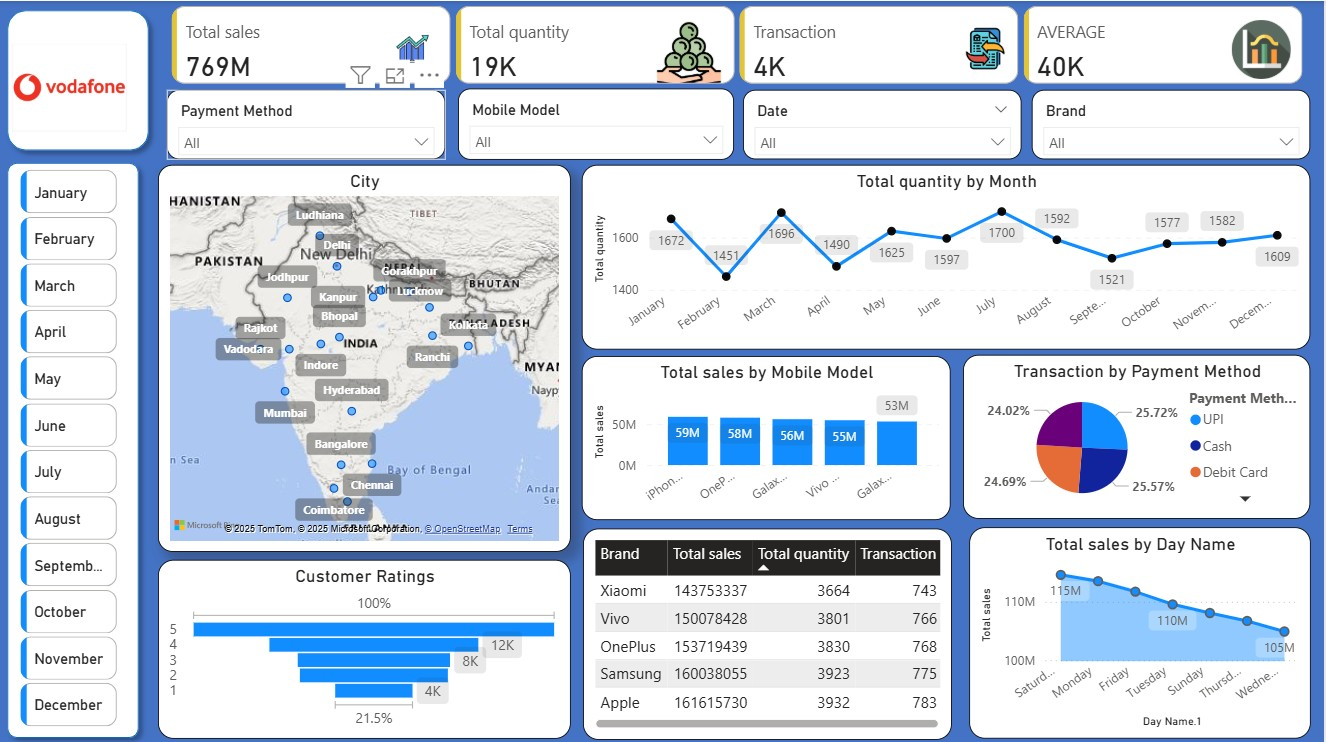

The page's visual inventory and layout, read from the dashboard file:
{"tool":"powerbi","page":{"name":"Page 1","canvas":[1280,720],"ordinal":0},"visuals":[{"type":"shape","box":[0,0,154.4,153.2],"z":0},{"type":"shape","box":[0,147.2,144.8,573.1],"z":1000},{"type":"cardVisual","fields":{"Data":["Sales_Data.Total sales","Sales_Data.Total quantity","Sales_Data.Transaction","Sales_Data.AVERAGE"]},"box":[162.9,0,1103.9,85.7],"z":2000},{"type":"map","fields":{"Category":["Sales_Data.City"]},"box":[154.4,158,398.1,374],"z":3000},{"type":"lineChart","fields":{"Y":["Sales_Data.Total quantity"],"Category":["Sales_Data.Date.Variation.Date Hierarchy.Month","Sales_Data.Date.Variation.Date Hierarchy.Day"]},"box":[563.4,158,703.4,178.6],"z":4000},{"type":"advancedSlicerVisual","fields":{"Values":["Sales_Data.Date.Variation.Date Hierarchy.Month"]},"box":[16.9,158,103.8,553.8],"z":5000},{"type":"clusteredColumnChart","fields":{"Category":["Sales_Data.Mobile Model"],"Y":["Sales_Data.Total sales"]},"box":[563.4,342.6,355.9,158],"z":6000},{"type":"pieChart","fields":{"Y":["Sales_Data.Transaction"],"Category":["Sales_Data.Payment Method"]},"box":[931.4,341.4,335.4,158],"z":7000},{"type":"funnel","title":" Customer Ratings","fields":{"Category":["Sales_Data.Customer Ratings"],"Y":["Sum(Sales_Data.Customer Age)"]},"box":[154.4,539.3,398.1,172.5],"z":8000},{"type":"stackedAreaChart","title":"Total sales by Day Name","fields":{"Category":["Sales_Data.Day Name.1"],"Y":["Sales_Data.Total sales"]},"box":[937.4,507.9,329.4,203.9],"z":9000},{"type":"tableEx","fields":{"Values":["Sales_Data.Brand","Sales_Data.Total sales","Sales_Data.Total quantity","Sales_Data.Transaction"]},"box":[564.6,509.1,355.9,203.9],"z":10000},{"type":"slicer","fields":{"Values":["Sales_Data.Payment Method"]},"box":[162.9,85.7,269,67.6],"z":11000},{"type":"slicer","fields":{"Values":["Sales_Data.Mobile Model"]},"box":[444,84.5,266.6,68.8],"z":12000},{"type":"slicer","fields":{"Values":["Sales_Data.Date"]},"box":[719,85.7,269,67.6],"z":13000},{"type":"slicer","fields":{"Values":["Sales_Data.Brand"]},"box":[997.7,85.7,269,67.6],"z":14000},{"type":"image","box":[8.4,20.5,120.6,126.7],"z":15000}]}

Visuals, with their boxes in screenshot pixels (x1, y1, x2, y2), scaled from the page's 1280x720 canvas onto the 1326x742 screenshot:
shape: locate(0, 0, 160, 158)
shape: locate(0, 152, 150, 741)
cardVisual - Sales_Data.Total sales x Sales_Data.Total quantity: locate(169, 0, 1312, 88)
map - Sales_Data.City: locate(160, 163, 572, 548)
lineChart - Sales_Data.Total quantity x Sales_Data.Date.Variation.Date Hierarchy.Month: locate(584, 163, 1312, 347)
advancedSlicerVisual - Sales_Data.Date.Variation.Date Hierarchy.Month: locate(18, 163, 125, 734)
clusteredColumnChart - Sales_Data.Mobile Model x Sales_Data.Total sales: locate(584, 353, 952, 516)
pieChart - Sales_Data.Transaction x Sales_Data.Payment Method: locate(965, 352, 1312, 515)
" Customer Ratings" funnel: locate(160, 556, 572, 734)
"Total sales by Day Name" stackedAreaChart: locate(971, 523, 1312, 734)
tableEx - Sales_Data.Brand x Sales_Data.Total sales: locate(585, 525, 954, 735)
slicer - Sales_Data.Payment Method: locate(169, 88, 447, 158)
slicer - Sales_Data.Mobile Model: locate(460, 87, 736, 158)
slicer - Sales_Data.Date: locate(745, 88, 1024, 158)
slicer - Sales_Data.Brand: locate(1034, 88, 1312, 158)
image: locate(9, 21, 134, 152)
